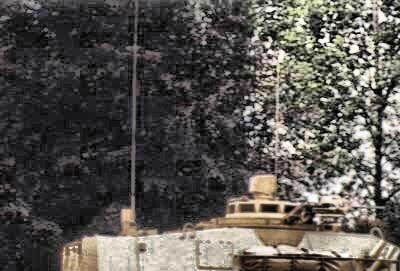tanks: (62, 176, 400, 271)
